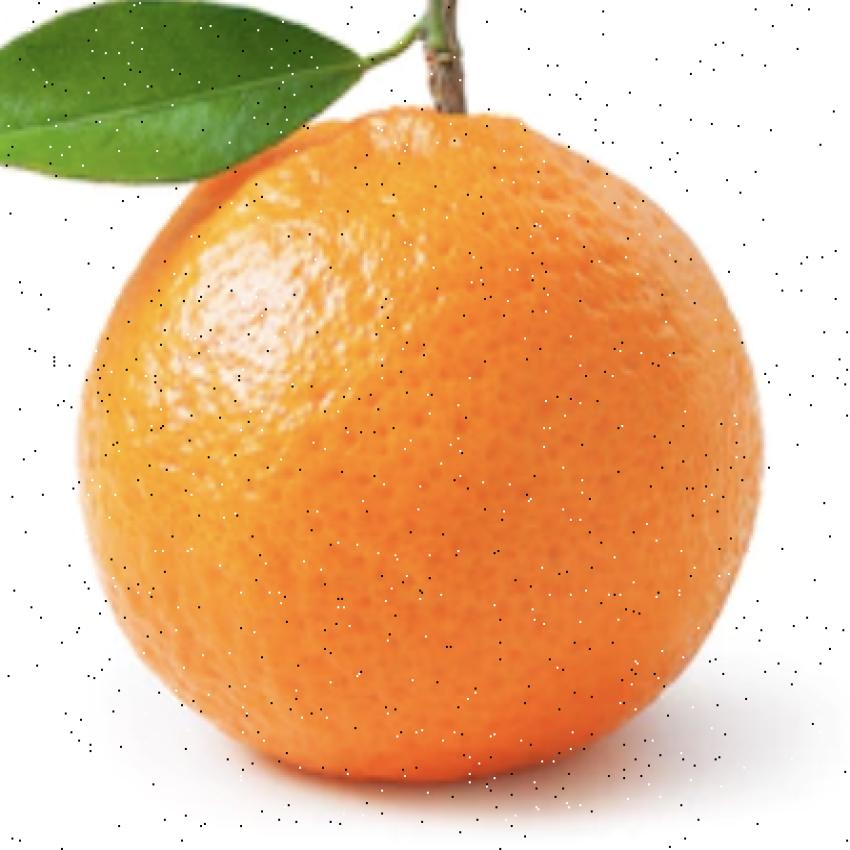Buen estado: (71, 73, 778, 794)
